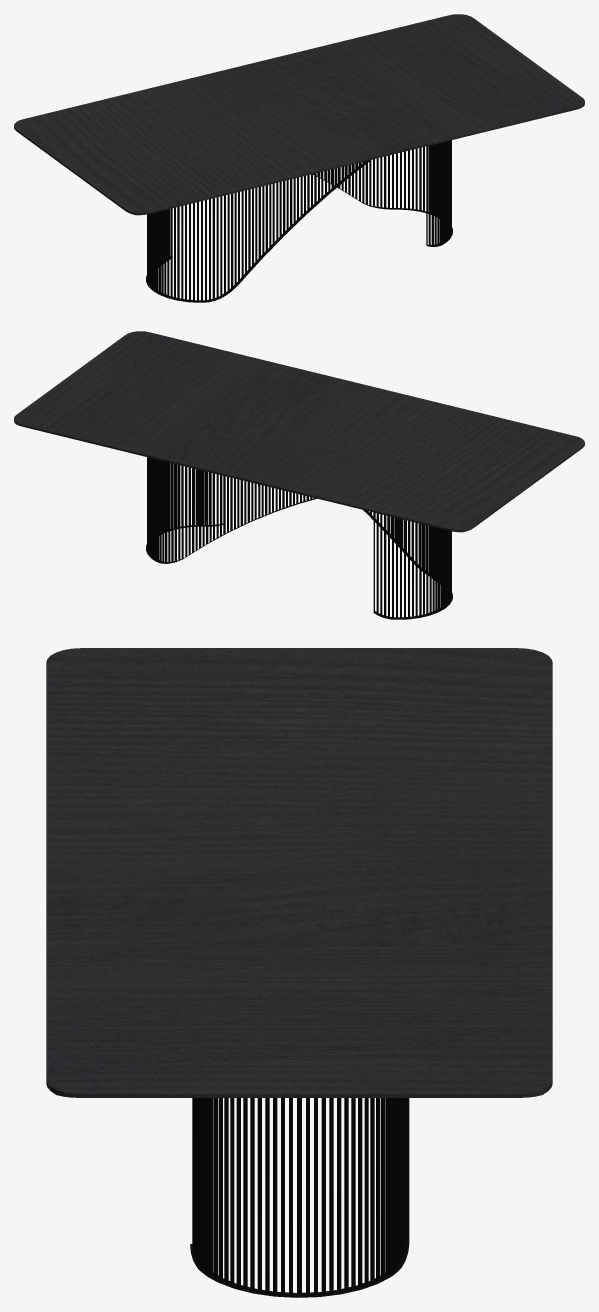
File: mesa_jantar_mar_adentro_america_agave_casa.glb
3 renders of one model, top to bottom at view 1: azimuth 30°, elevation 25°; view 2: azimuth 150°, elevation 25°; view 3: azimuth 270°, elevation 25°, orthographic. The views are drawn at different scales.
Parts seen in each view (by area): view 1: Group1, Group2; view 2: Group1, Group2; view 3: Group1, Group2.
Part boxes in pixels (x1,y1,x2,y2): Group1: [14, 14, 584, 215]; Group2: [146, 140, 452, 302]; Group1: [14, 331, 584, 532]; Group2: [146, 457, 452, 619]; Group1: [46, 648, 552, 1097]; Group2: [190, 1098, 409, 1297].
Size of the model in its own units: 2.5 by 0.7422 by 1.2.
3 materials, 2 textured.
